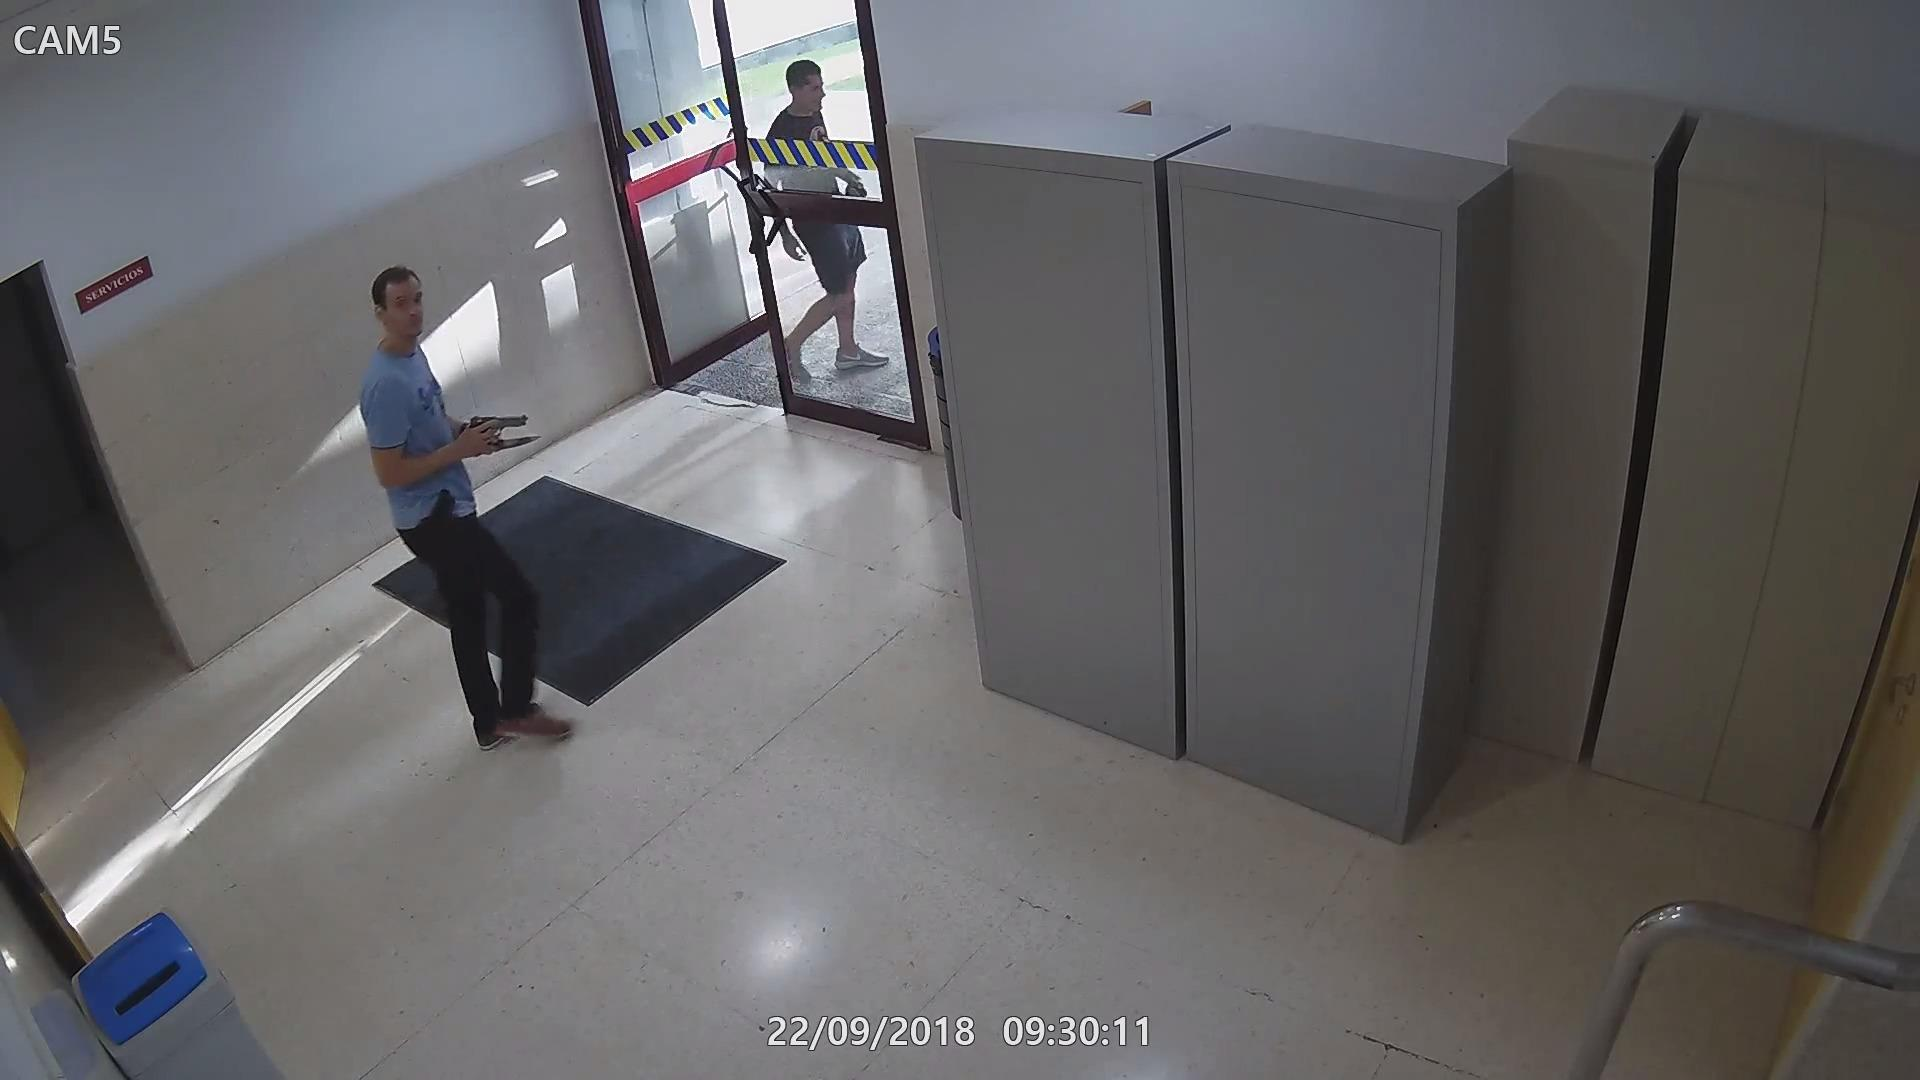Handgun: (454, 409, 526, 463), (839, 181, 870, 193)
